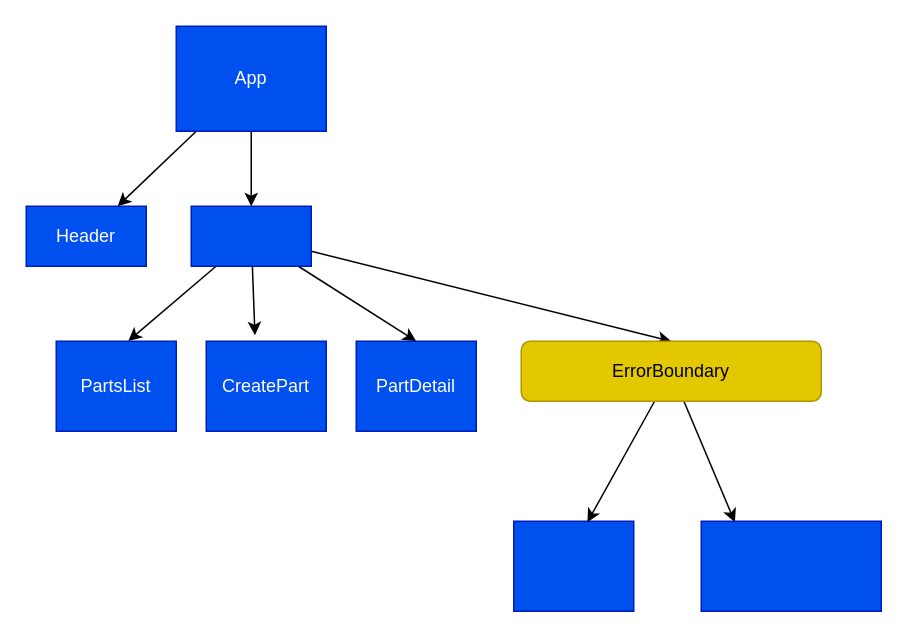
The diagram is 908 pixels wide and 638 high, and some of its shapes have lost their labels. Each missing label, with the centre of its shape:
"BuySet" belongs at pixel 573 565.
"FallbackComponent" belongs at pixel 790 565.
"PartControl" belongs at pixel 250 235.
